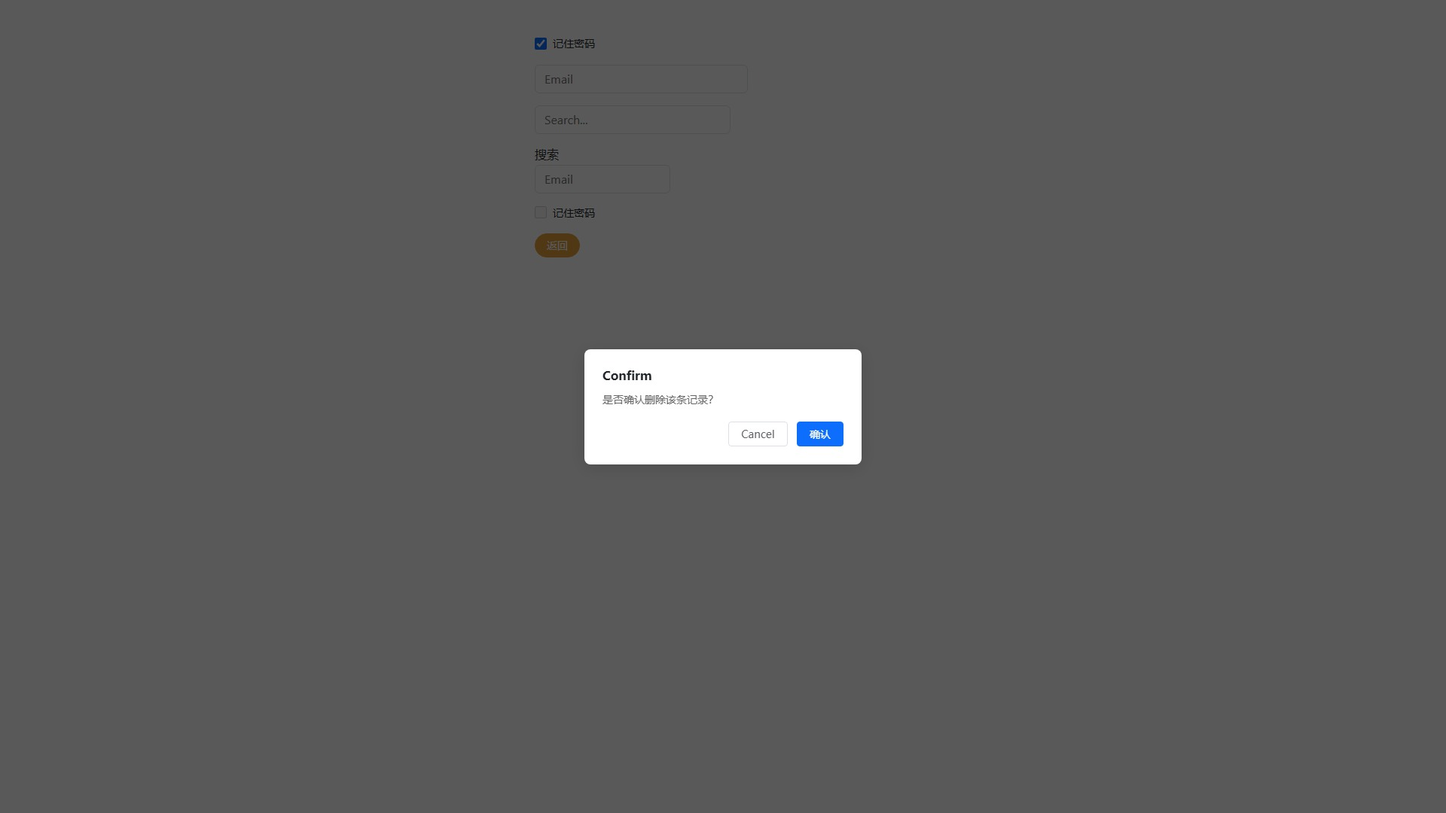button: (728, 421, 787, 446), (797, 421, 843, 446), (535, 233, 580, 257)
checkbox: (535, 37, 547, 49), (535, 206, 547, 218)
icon: (553, 36, 595, 50), (553, 205, 595, 219)
input: (535, 64, 748, 93), (535, 105, 731, 134), (535, 164, 670, 193)
modal: (0, 0, 1446, 813)
radio: (535, 36, 595, 50), (535, 205, 595, 219)
